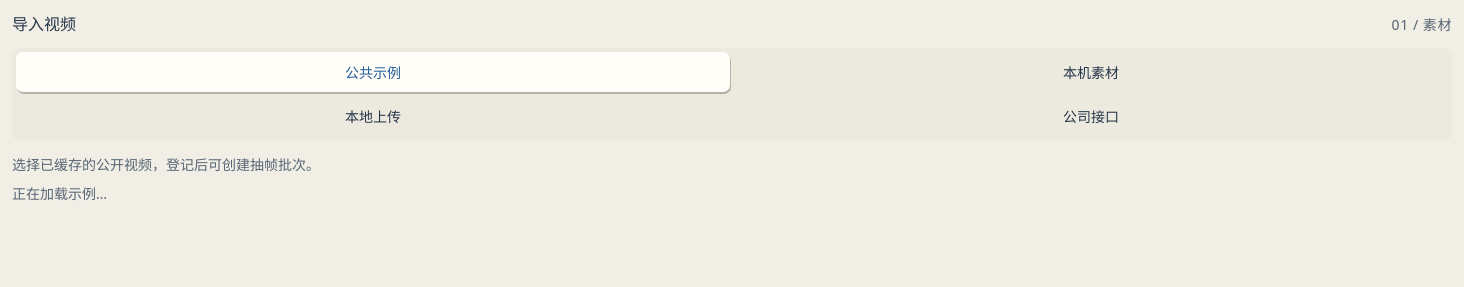
it: shows a 503 catalog error and retries without inventing configured sources
Click the tab "本机素材". click: (1091, 72)
box: x1=734 y1=52 x2=1448 y2=92
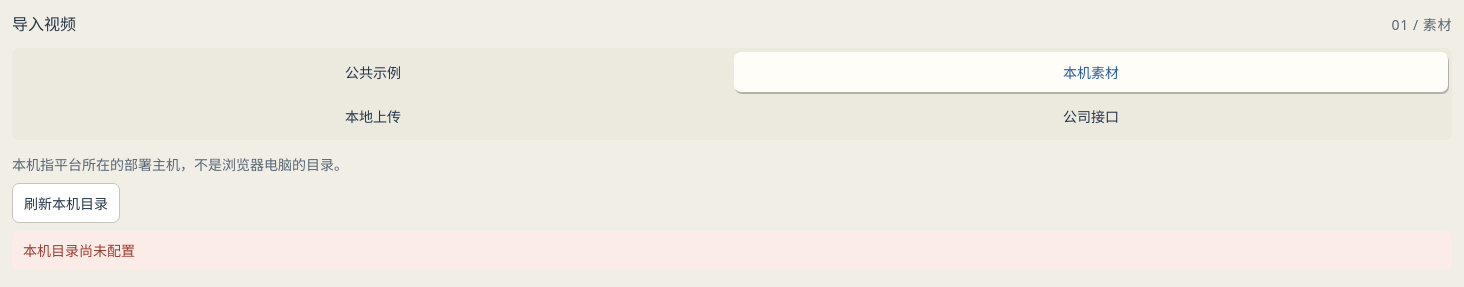
Expected: the text "本机目录尚未配置" is shown, x1=12 y1=231 x2=1452 y2=270
Click the button "刷新本机目录". click: (66, 203)
box: x1=12 y1=183 x2=120 y2=223
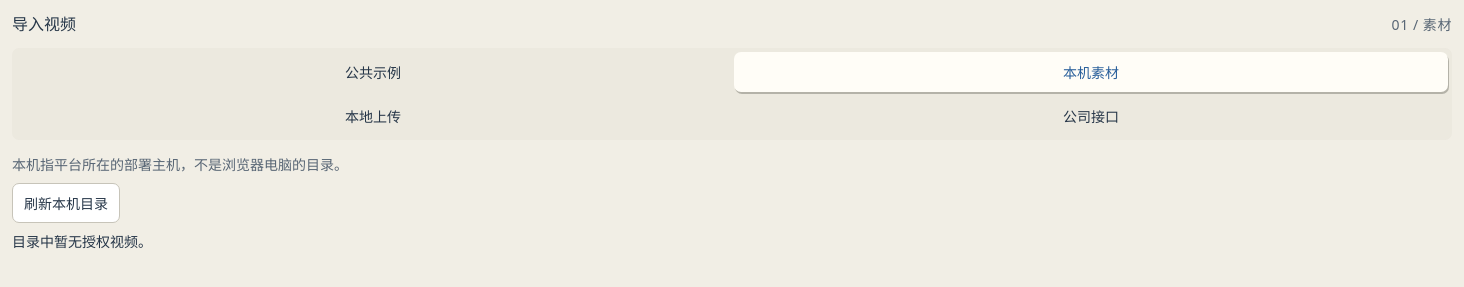
Expected: the text "目录中暂无授权视频。" is shown, x1=12 y1=232 x2=152 y2=251
